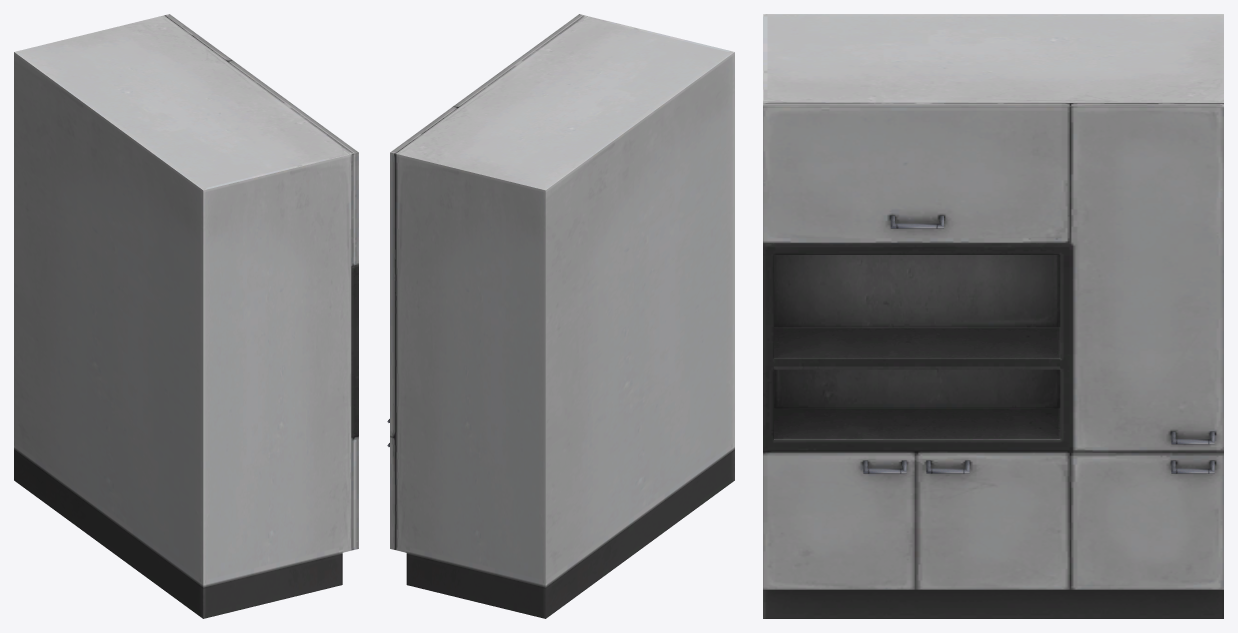
The model's file is Kitchen07.FBX.
3 renders of one model, left to right at view 1: azimuth 30°, elevation 25°; view 2: azimuth 150°, elevation 25°; view 3: azimuth 270°, elevation 25°, orthographic. The views are drawn at different scales.
Parts seen in each view (by area): view 1: Kitchen07; view 2: Kitchen07; view 3: Kitchen07.
Part boxes in pixels (x1,y1,x2,y2): Kitchen07: (14,14,358,618); Kitchen07: (387,14,734,618); Kitchen07: (763,14,1223,618).
Size of the model in its own units: 0.992 by 2.5 by 2.
